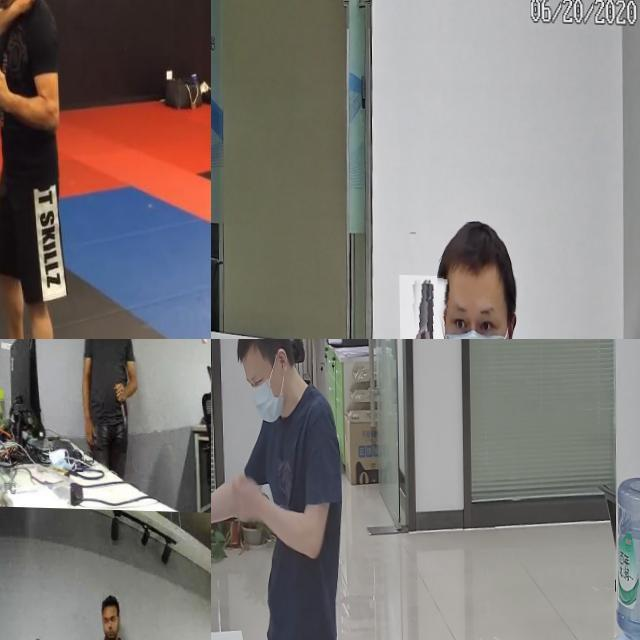-: (0, 155, 27, 189), (115, 394, 128, 432), (0, 391, 8, 428)
gun-knife-thesis - v11 Yolov5 augmented: (398, 273, 445, 339), (211, 483, 238, 544)
